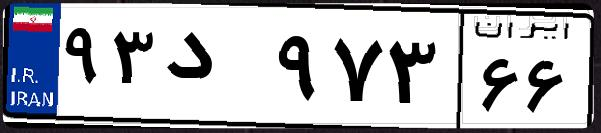3: (385, 28, 445, 110), (110, 28, 158, 98)
6: (475, 38, 525, 113), (525, 38, 570, 115)
7: (330, 28, 385, 110)
9: (270, 28, 330, 110), (57, 26, 110, 100)
د: (158, 20, 270, 120)
